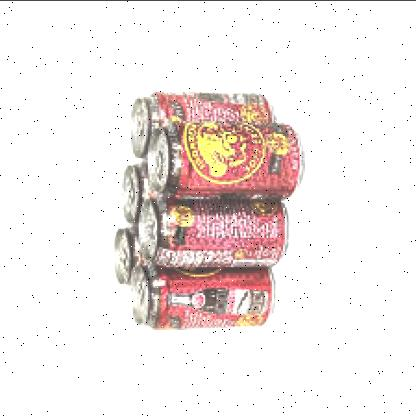Can: (143, 118, 306, 198), (139, 195, 293, 267), (127, 258, 274, 332), (128, 88, 272, 160), (107, 226, 152, 288), (118, 162, 156, 224)
